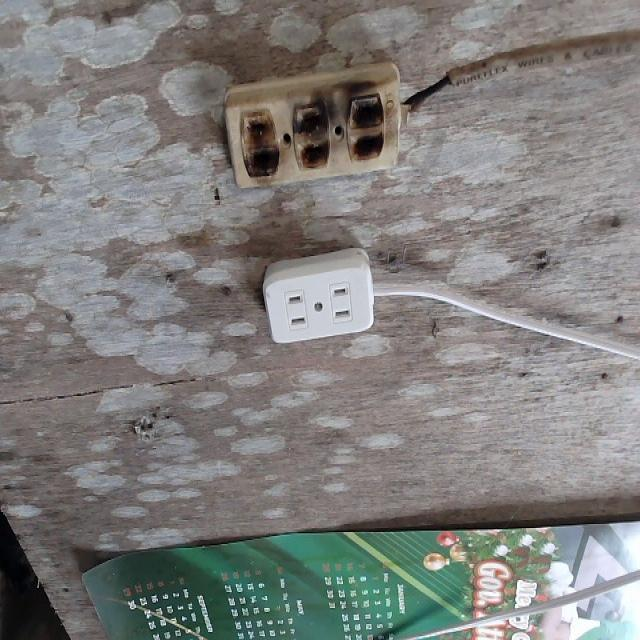-: (230, 85, 385, 180)
